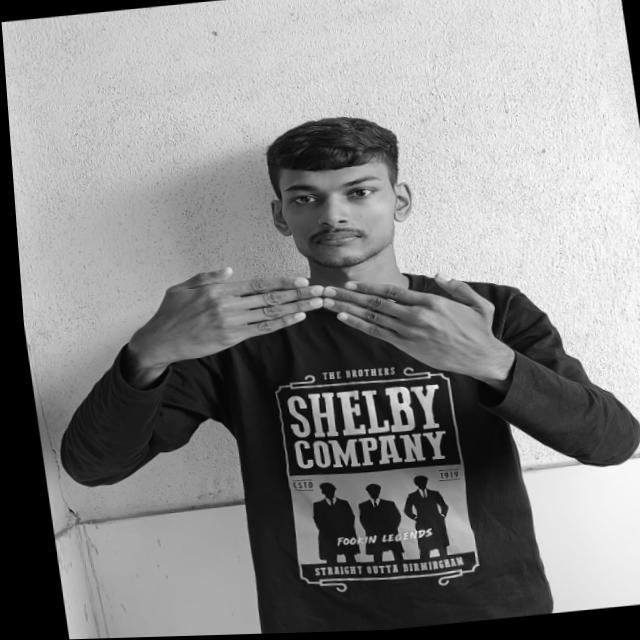Night: (130, 241, 502, 399)
